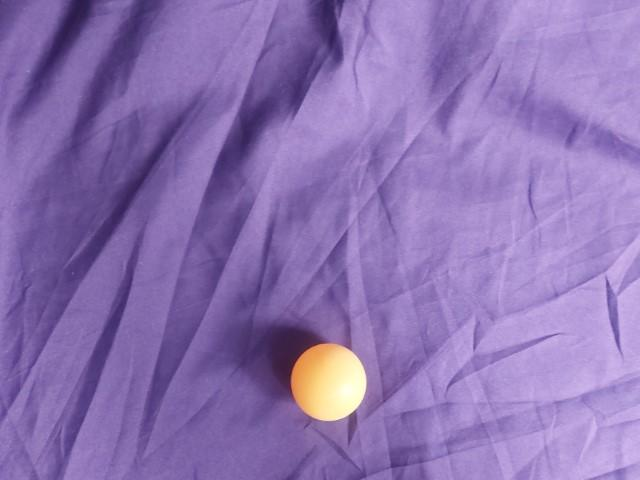oball: (265, 52, 355, 143)
